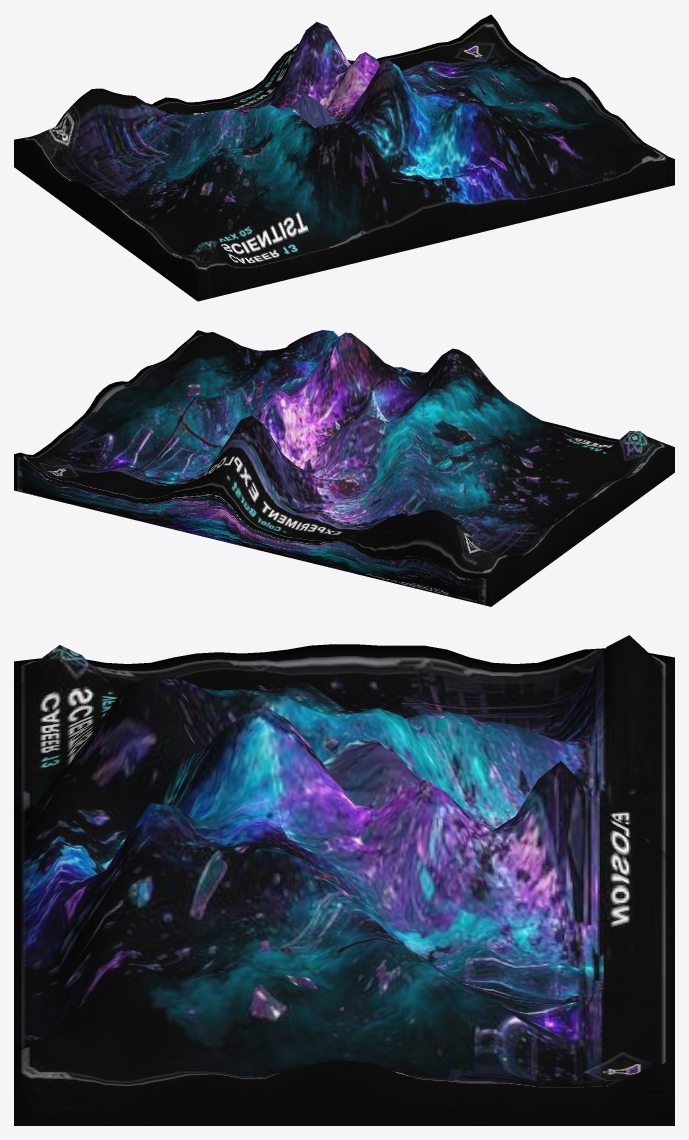
The model's file is CAREER_13_VFX_02_Experiment.glb.
The picture shows the model from 3 angles, top to bottom: view 1: azimuth 30°, elevation 25°; view 2: azimuth 150°, elevation 25°; view 3: azimuth 270°, elevation 25°; orthographic projection. The views are drawn at different scales.
Parts seen in each view (by area): view 1: CAREER_13_VFX_02_Experiment; view 2: CAREER_13_VFX_02_Experiment; view 3: CAREER_13_VFX_02_Experiment.
Part boxes in pixels (x1,y1,x2,y2): CAREER_13_VFX_02_Experiment: (14, 14, 674, 301); CAREER_13_VFX_02_Experiment: (14, 330, 674, 606); CAREER_13_VFX_02_Experiment: (14, 635, 674, 1125).
Size of the model in its own units: 2 by 0.51 by 1.33.
1 material, 1 textured.
